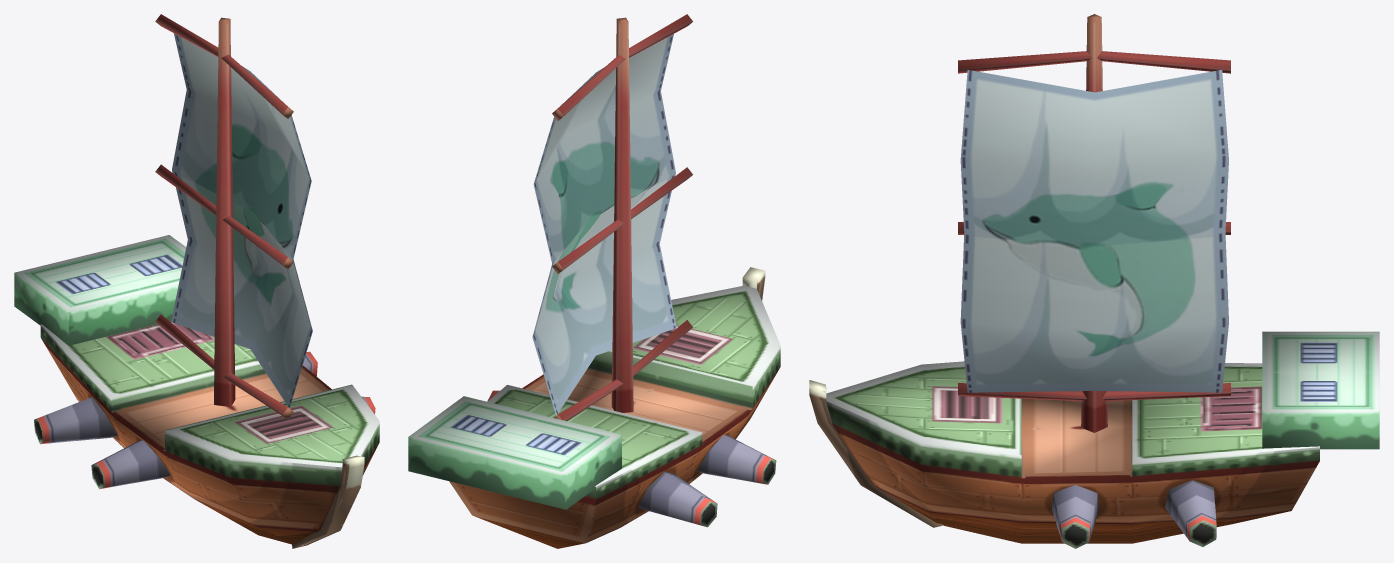
Rendered from bhth.FBX.
3 views of the same model, side by side, from view 1: azimuth 30°, elevation 25°; view 2: azimuth 150°, elevation 25°; view 3: azimuth 270°, elevation 25° (orthographic). The views are drawn at different scales.
Visible parts, largest first — view 1: 组001, Box002; view 2: 组001, Box002; view 3: Box002, 组001.
Part boxes in pixels (x1,y1,x2,y2): 组001: (14,235,379,548); Box002: (155,14,312,419); 组001: (408,267,780,548); Box002: (532,14,692,420); Box002: (958,14,1230,432); 组001: (809,331,1379,548).
Bounding box in the file's own units: 51.27 × 87.26 × 85.66.
Materials: 2 (2 with a texture image).
